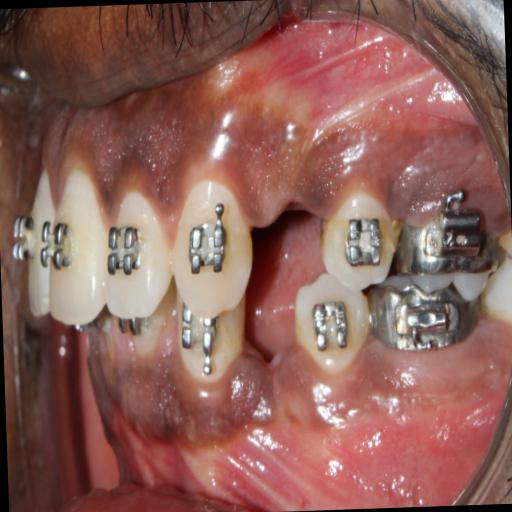correct_brace: (180, 198, 234, 286), (106, 218, 146, 284), (310, 300, 352, 360)
incorrect_brace: (103, 192, 173, 320)
